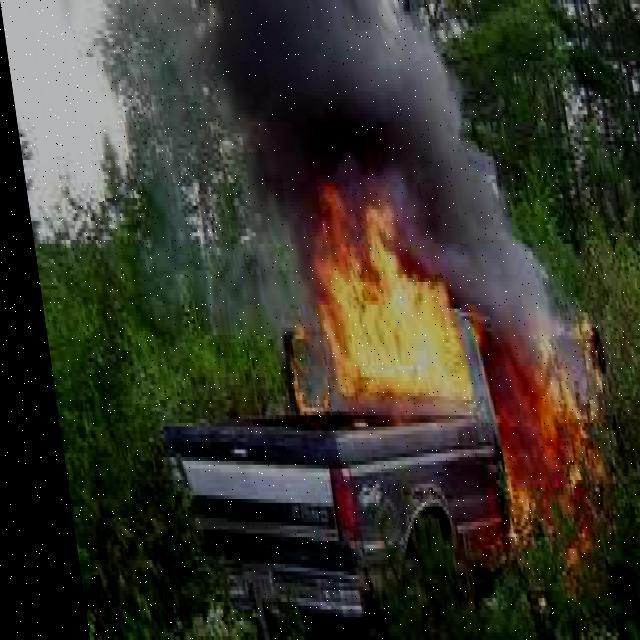Fire: (273, 179, 477, 419), (451, 304, 622, 568)
